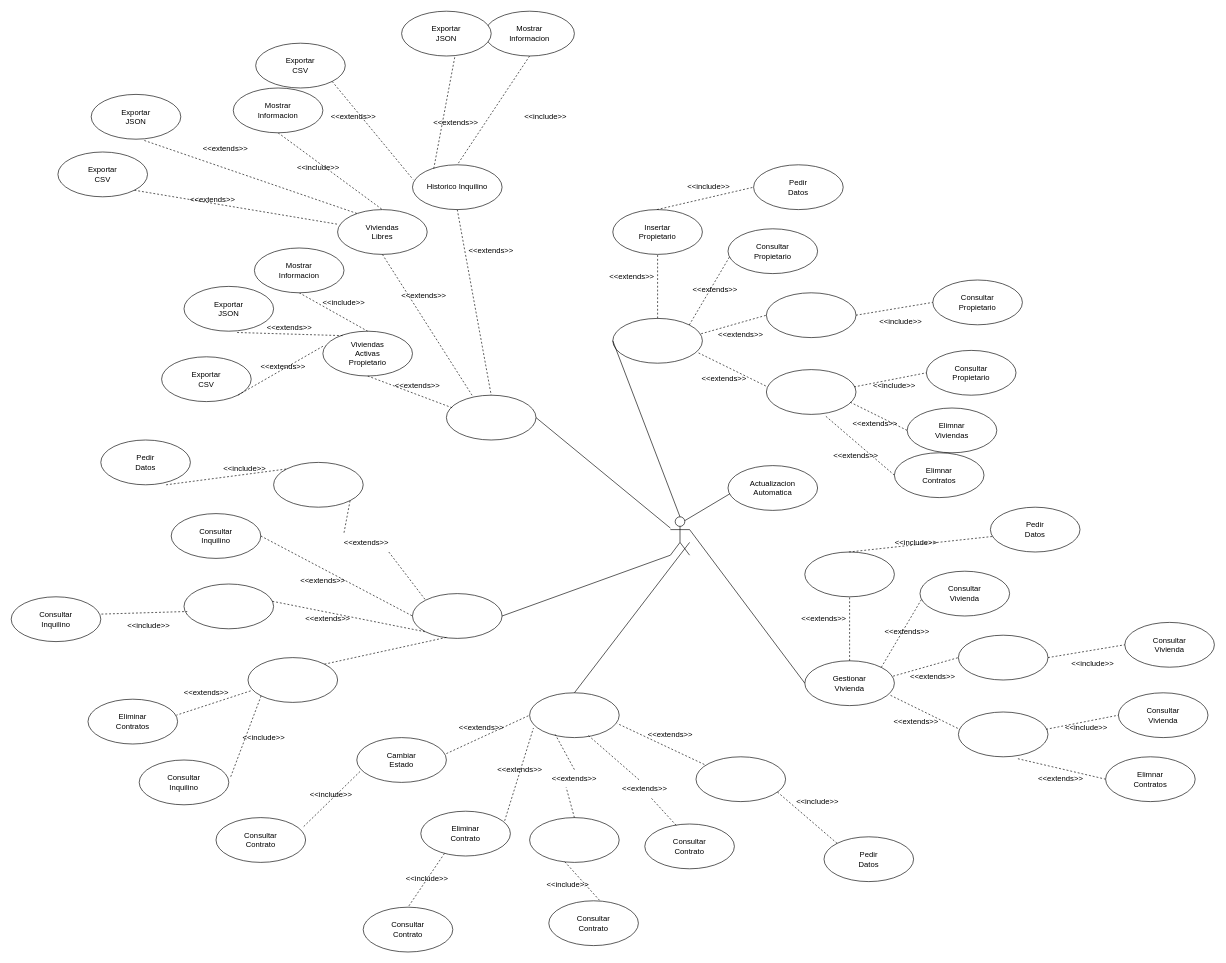
Image size: 1226x963. Some labels were removed from this diagram. The shapes that lost their labels are listed below. From the top down, each one's centre as x and y in pixels, then its label:
At (x=811, y=315): "Actualizar Propietario".
At (x=657, y=340): "Gestionar Propietario".
At (x=811, y=391): "Eliminar Propietario".
At (x=491, y=417): "Gestionar Estadisticas".
At (x=318, y=484): "Insertar Inquilino".
At (x=680, y=535): "Usuario".
At (x=849, y=574): "Insertar Vivienda".
At (x=228, y=606): "Actualizar Inquilino".
At (x=457, y=615): "Gestionar Inquilino".
At (x=1003, y=657): "Actualizar Vivienda".
At (x=292, y=679): "Eliminar Inquilino".
At (x=574, y=715): "Gestionar Contrato".
At (x=1003, y=734): "Eliminar Vivienda".
At (x=740, y=779): "Insertar Contrato".
At (x=574, y=839): "Actualizar Contrato".
